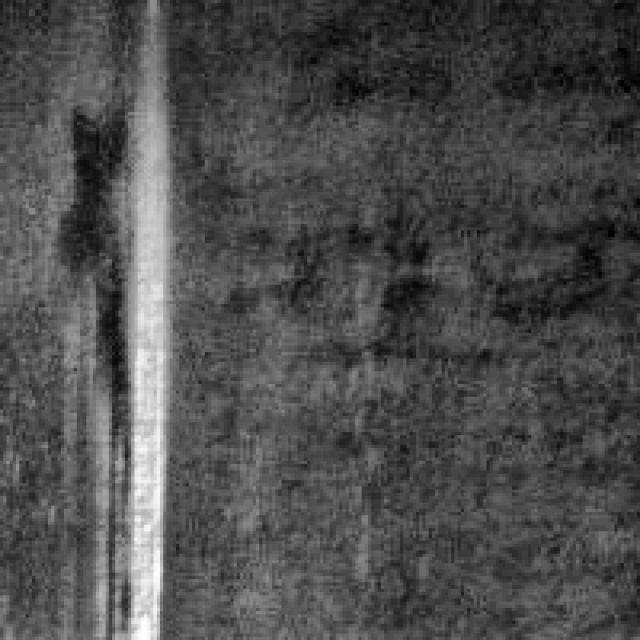Inclusion: (86, 137, 164, 634)
